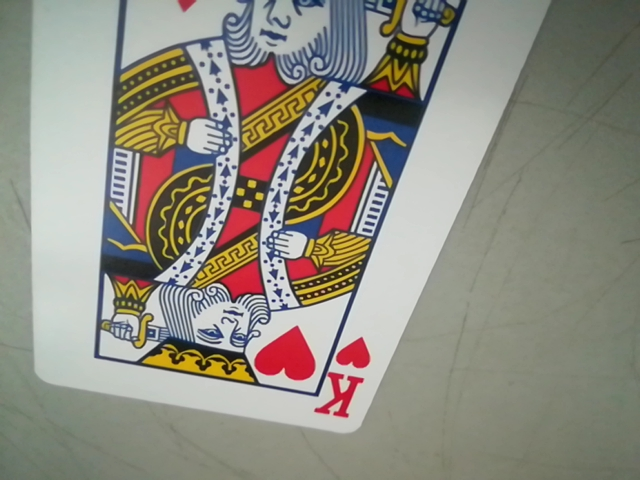hx k: (313, 330, 382, 425)
